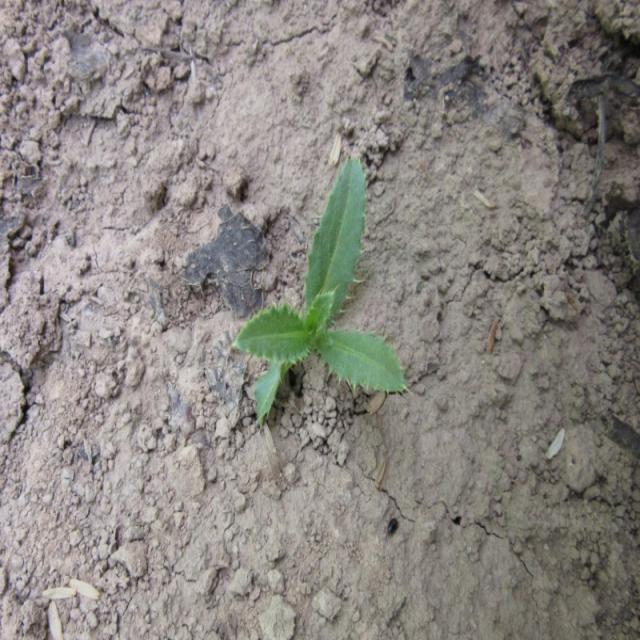field_thistle: (220, 144, 417, 480)
